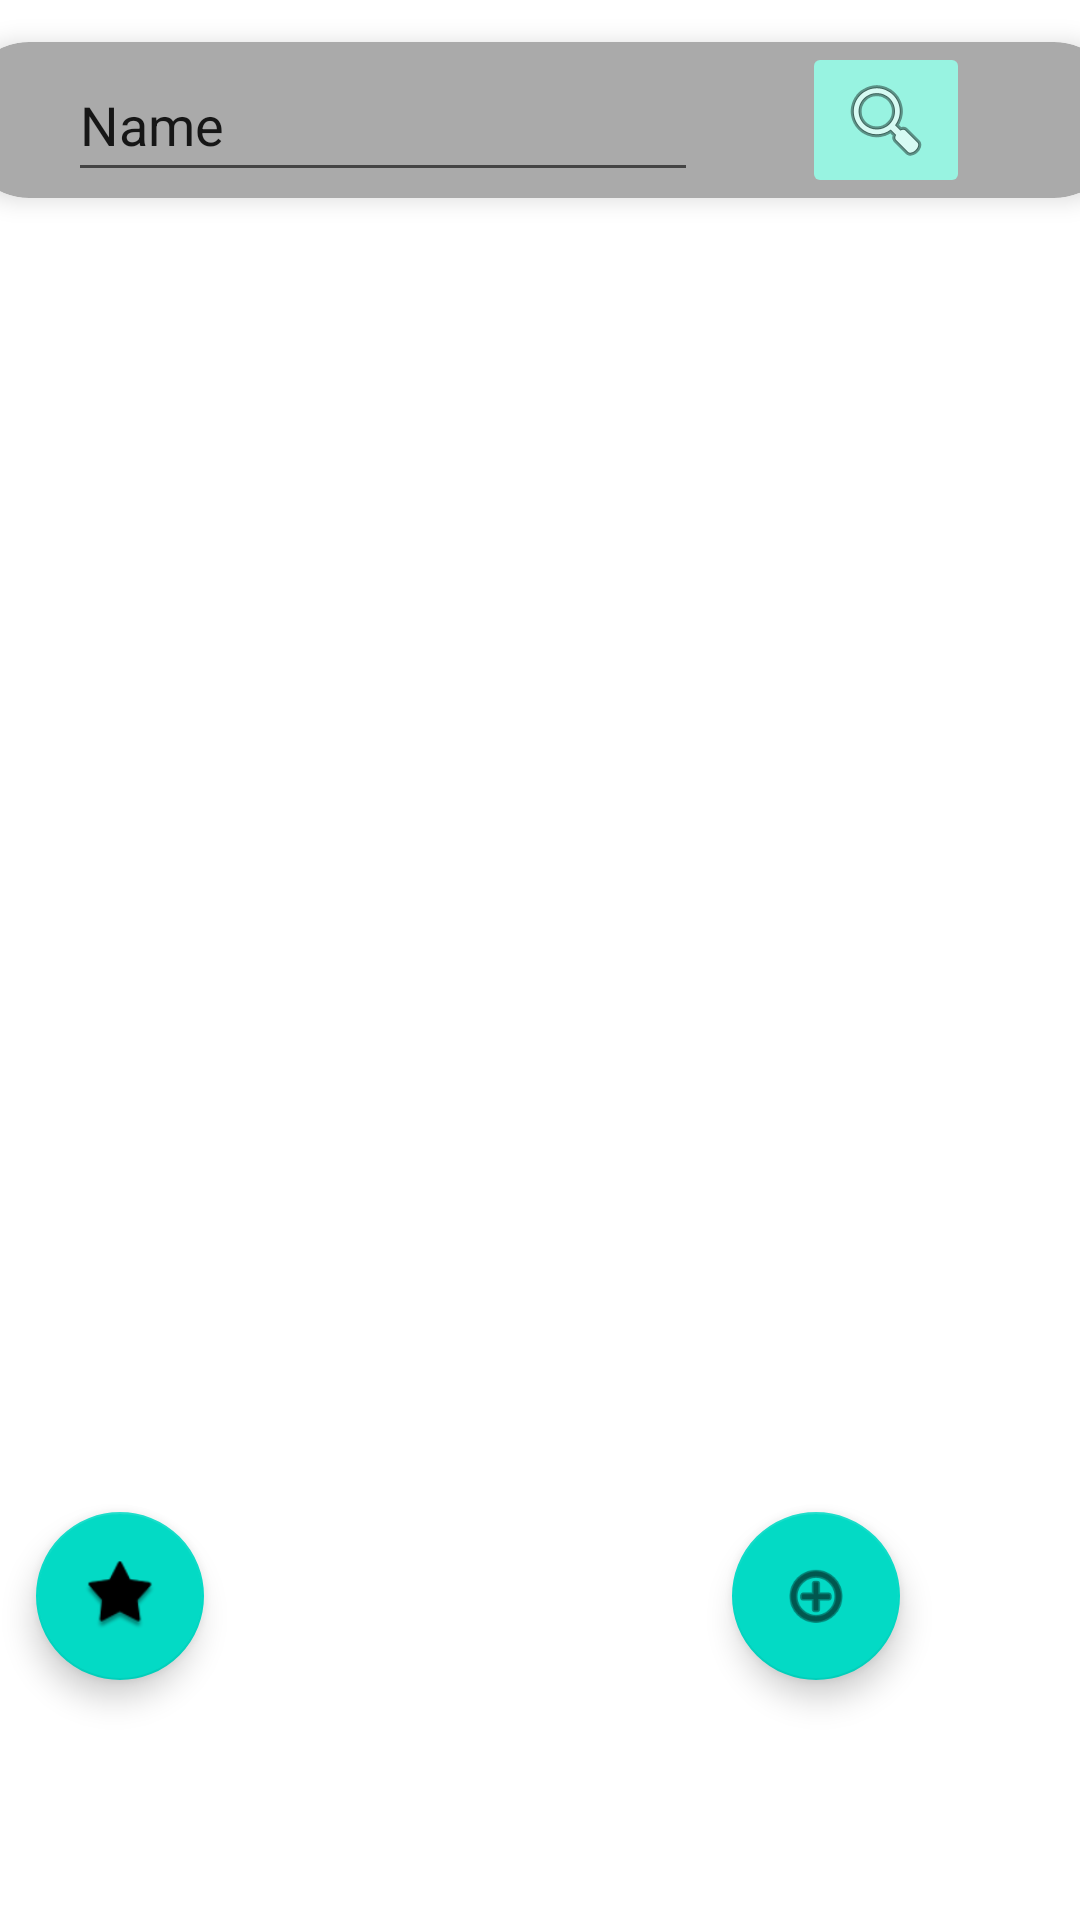

Named icons in this screenshot (1080 × 1920) and their bounding boxes, rect(x1, y1, x2, y2):
add: rect(732, 1512, 900, 1680)
search: rect(814, 60, 958, 180)
star on: rect(36, 1512, 204, 1680)
